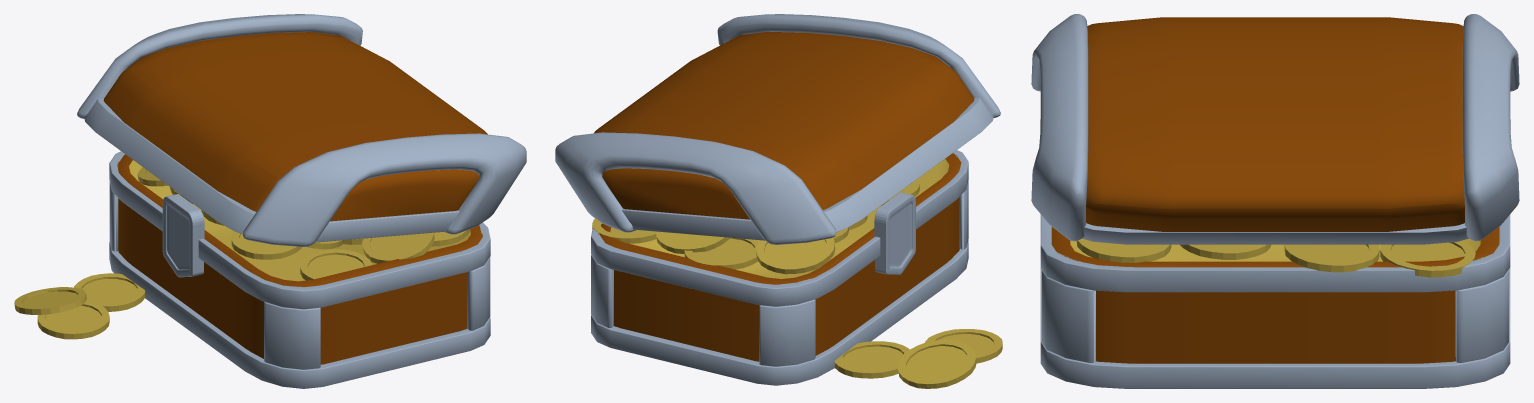
Rendered from teasechest.fbx.
3 renders of one model, left to right at view 1: azimuth 30°, elevation 25°; view 2: azimuth 150°, elevation 25°; view 3: azimuth 270°, elevation 25°, orthographic. The views are drawn at different scales.
Visible parts, largest first — view 1: Cube.004, Cube.002, Cube.006, Cube.003, Cube.005, Cube.007, Circle.006, Cube.008, Circle.002, Circle.005; view 2: Cube.004, Cube.006, Cube.002, Cube.003, Cube.005, Circle.006, Cube.007, Circle.001, Cube.008, Circle; view 3: Cube.004, Cube.002, Cube.003, Cube.006, Cube.007, Cube.005, Circle.004, Circle, Circle.005.
Boxes of the visible parts, left/top/right/bottom form: Cube.004: left=103, top=32, right=487, bottom=221; Cube.002: left=117, top=154, right=482, bottom=364; Cube.006: left=77, top=14, right=526, bottom=246; Cube.003: left=109, top=151, right=490, bottom=388; Cube.005: left=84, top=98, right=475, bottom=243; Cube.007: left=109, top=182, right=490, bottom=369; Circle.006: left=14, top=273, right=145, bottom=339; Cube.008: left=162, top=194, right=204, bottom=277; Circle.002: left=231, top=231, right=371, bottom=280; Circle.005: left=343, top=229, right=470, bottom=263; Cube.004: left=594, top=31, right=974, bottom=219; Cube.006: left=555, top=14, right=1000, bottom=244; Cube.002: left=598, top=153, right=961, bottom=361; Cube.003: left=591, top=150, right=968, bottom=385; Cube.005: left=605, top=98, right=993, bottom=241; Circle.006: left=834, top=329, right=1002, bottom=388; Cube.007: left=591, top=180, right=968, bottom=366; Circle.001: left=684, top=227, right=848, bottom=274; Cube.008: left=874, top=192, right=915, bottom=274; Circle: left=592, top=218, right=729, bottom=253; Cube.004: left=1086, top=17, right=1464, bottom=231; Cube.002: left=1051, top=227, right=1499, bottom=363; Cube.003: left=1040, top=214, right=1510, bottom=388; Cube.006: left=1031, top=14, right=1519, bottom=241; Cube.007: left=1042, top=270, right=1508, bottom=362; Cube.005: left=1047, top=222, right=1503, bottom=244; Circle.004: left=1180, top=244, right=1379, bottom=272; Circle: left=1380, top=240, right=1475, bottom=277; Circle.005: left=1076, top=238, right=1171, bottom=262.
Bounding box in the file's own units: 345 × 188 × 314.
